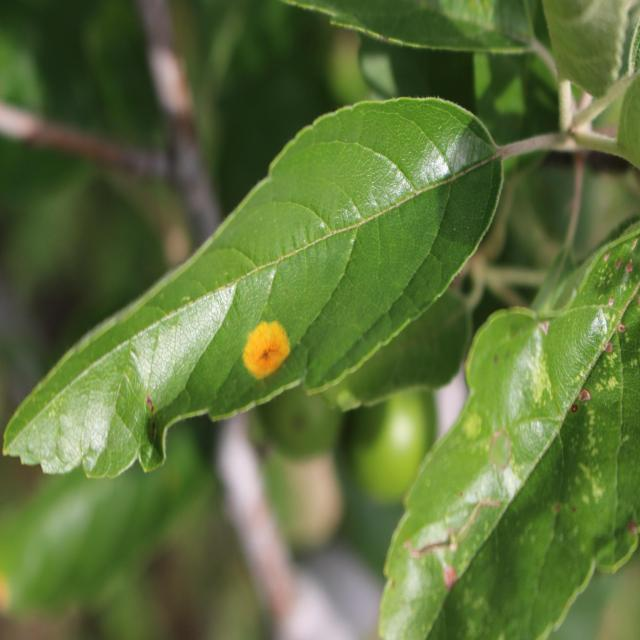Rust: (235, 310, 294, 389)
